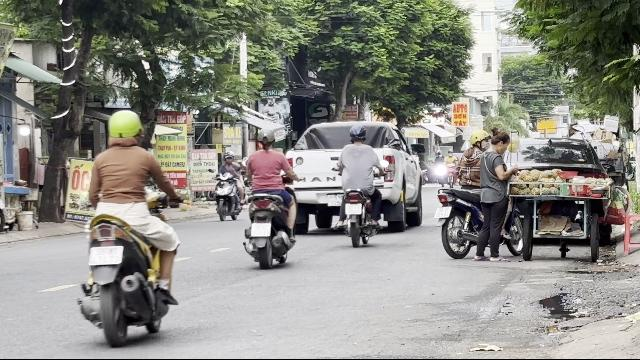helmet: (105, 109, 144, 147), (256, 127, 276, 150), (468, 130, 490, 150), (348, 121, 368, 142), (222, 150, 234, 164)
licenseplate: (90, 246, 122, 266), (250, 223, 270, 236), (435, 207, 451, 218), (345, 204, 361, 214)
motorcyclist: (78, 108, 182, 344), (241, 128, 299, 268), (432, 126, 492, 260), (336, 122, 382, 246), (211, 150, 243, 220)
